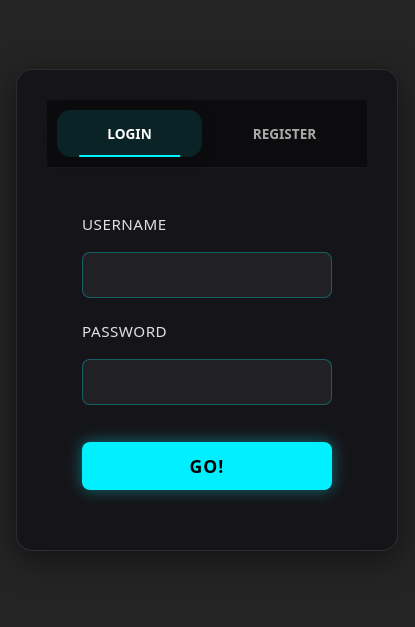
Test case: AuthForm › switches between login and register tabs
The width and height of the screenshot is (415, 627).
Expected: the field labelled "confirm password" is not shown
Step 1. Click the button "REGISTER" → (284, 134), box [212,110,357,157]
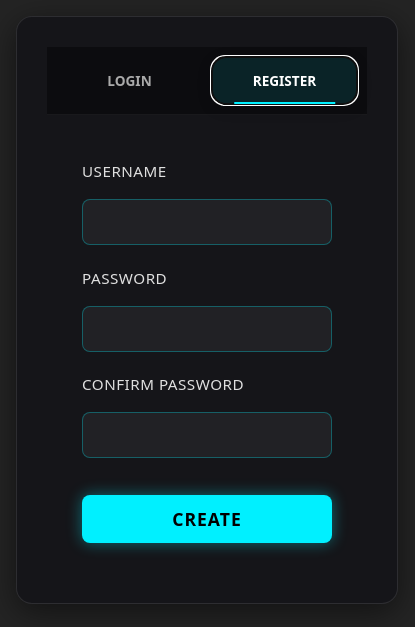
Now the password field labelled "Confirm Password" is shown, box [82,412,332,458]
Step 2. Click the button "LOGIN" → (130, 80), box [57,57,202,104]
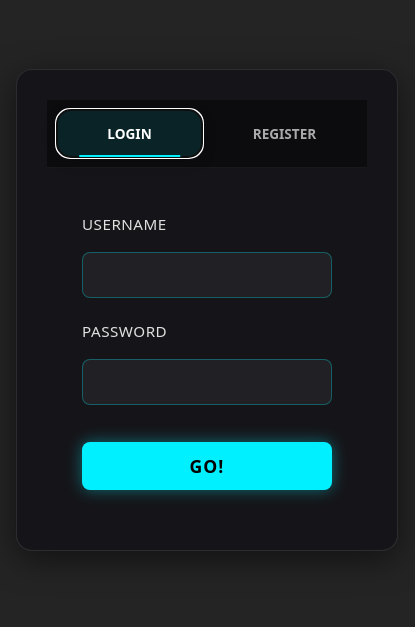
Now the label labelled "Confirm Password" is gone
